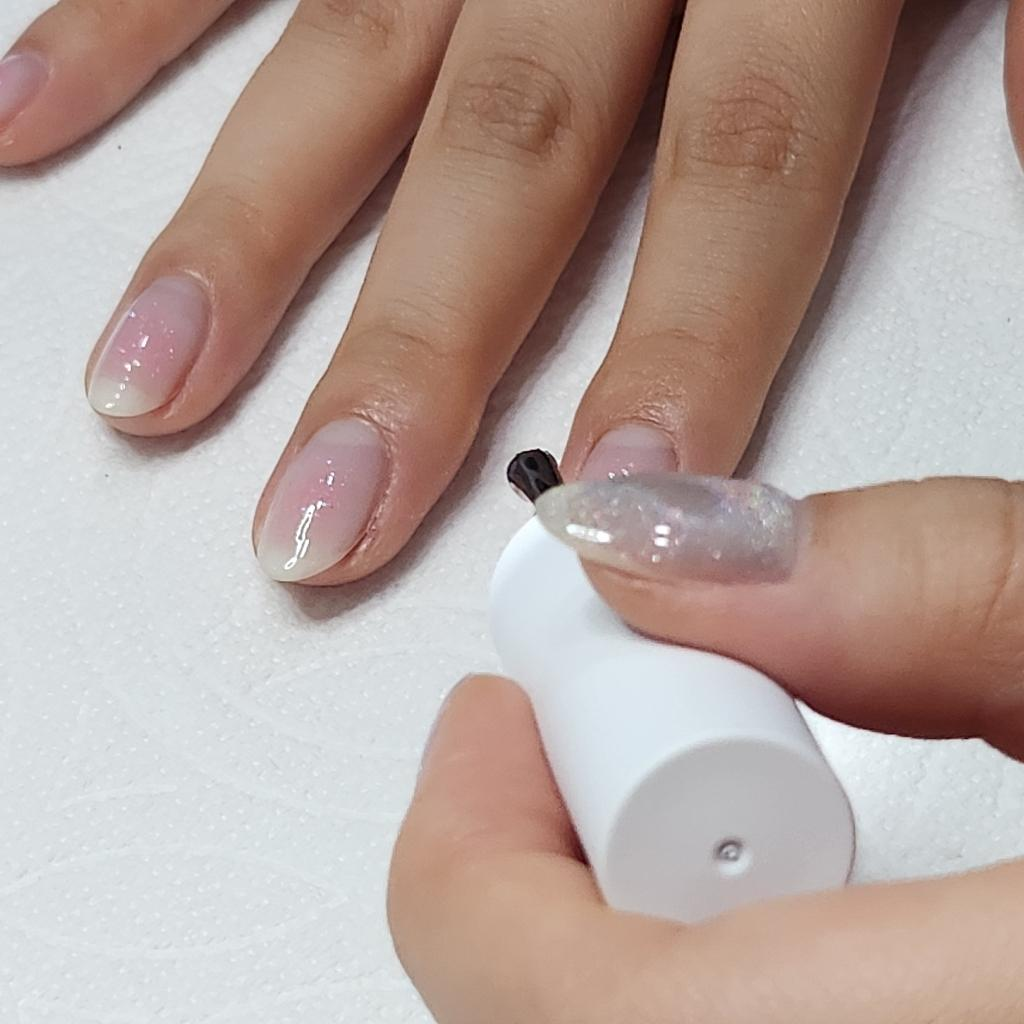nail: (504, 446, 799, 585), (251, 413, 394, 584), (84, 268, 212, 420)
